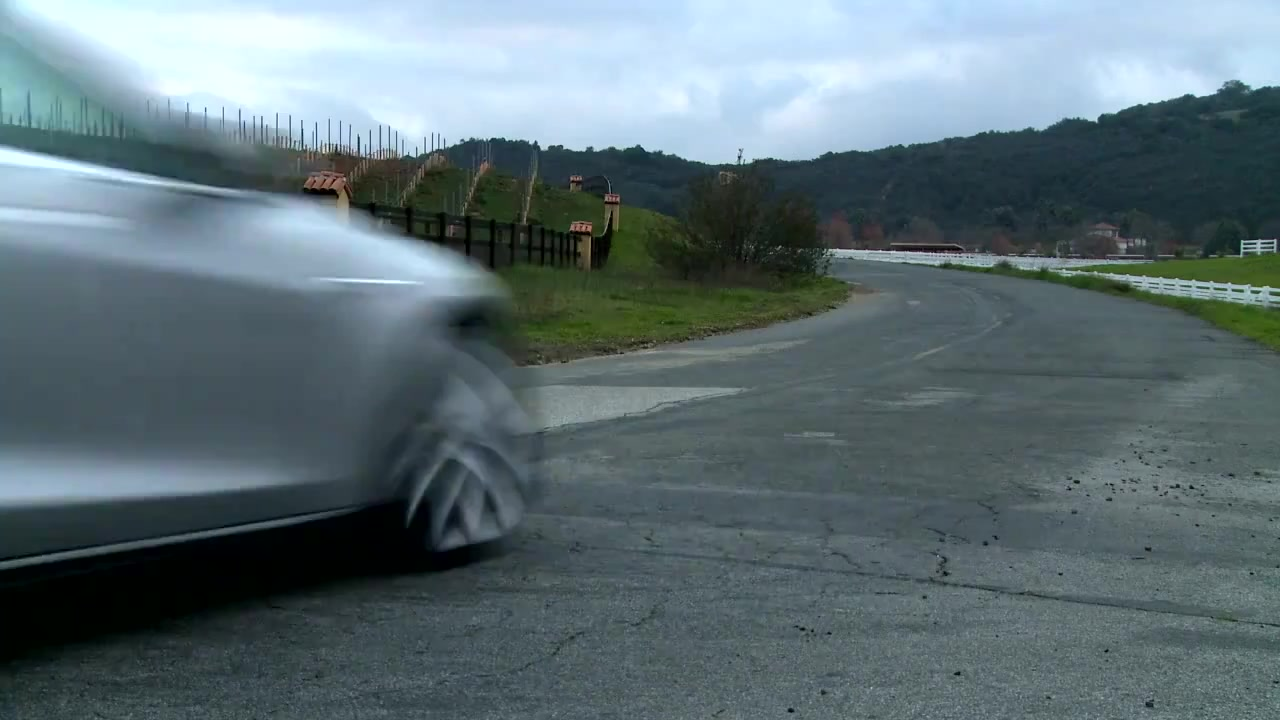car: (1, 1, 544, 582)
